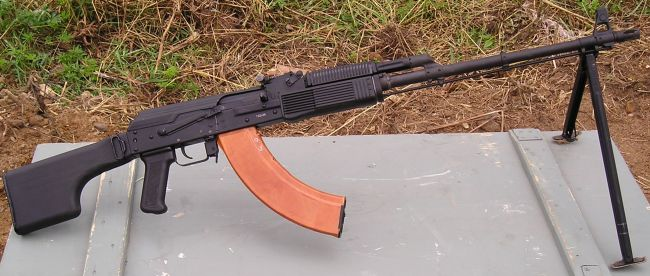rifle: (12, 25, 642, 254)
